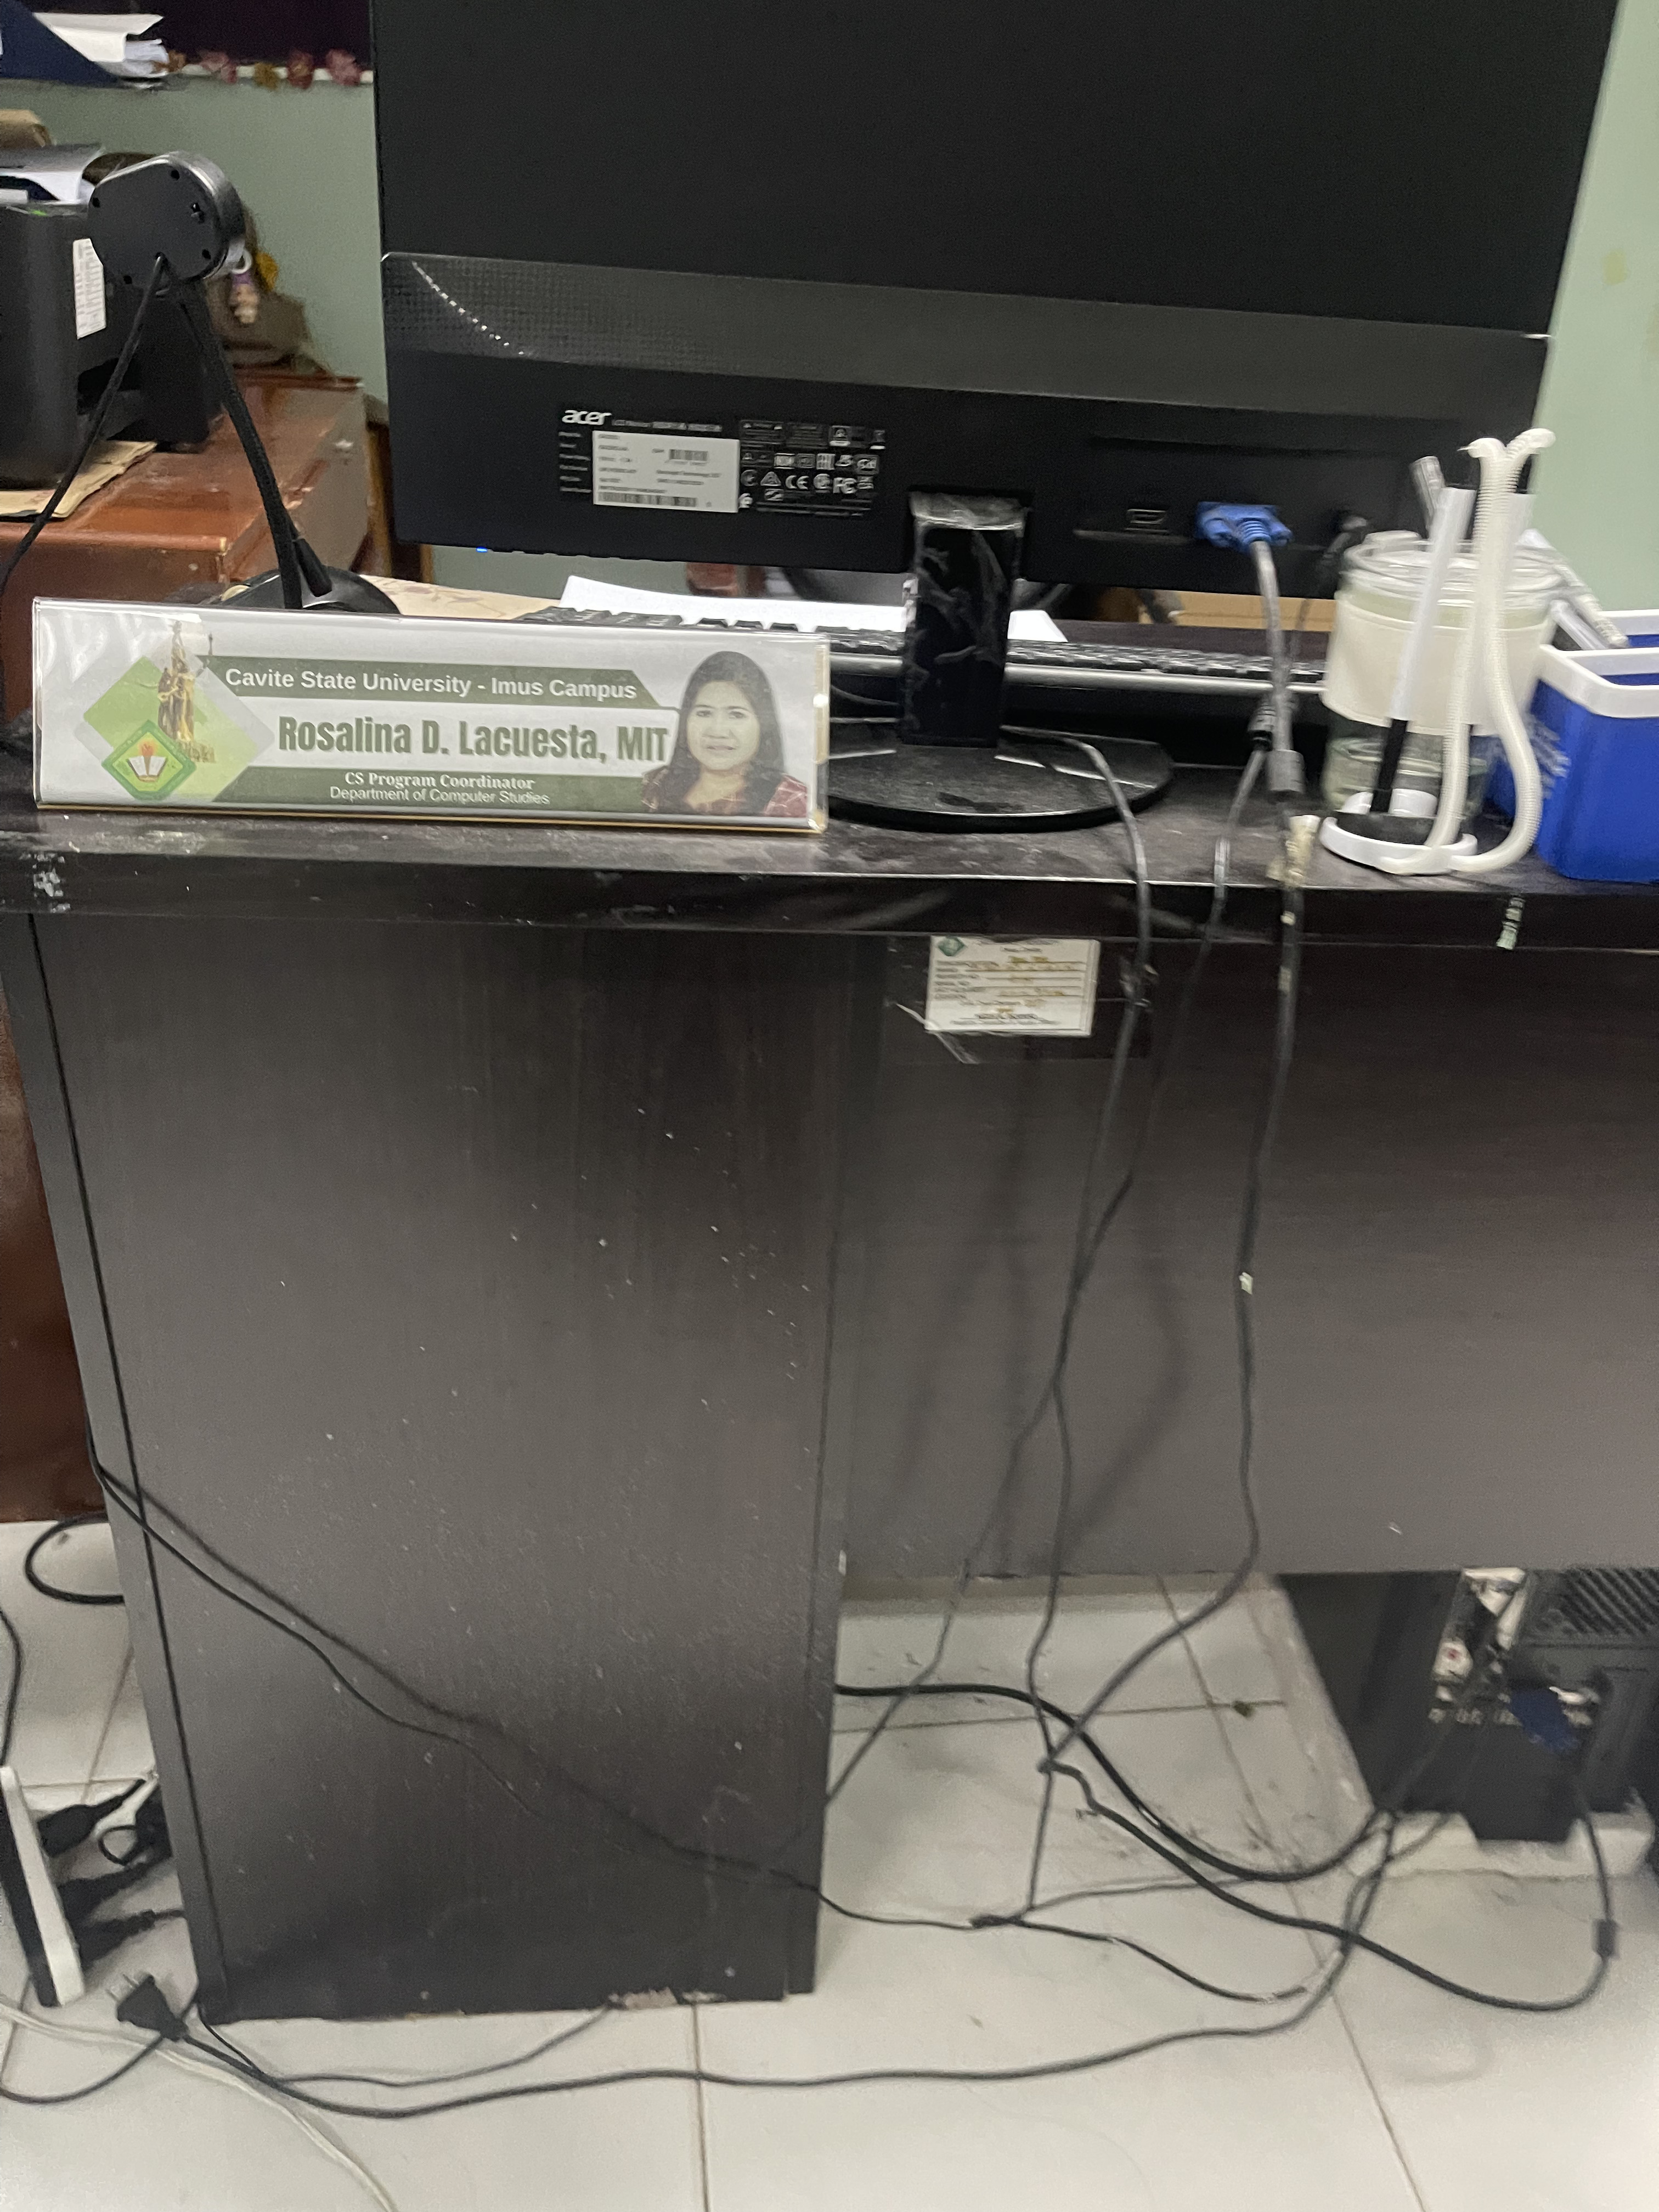table1: (0, 721, 1659, 2036)
